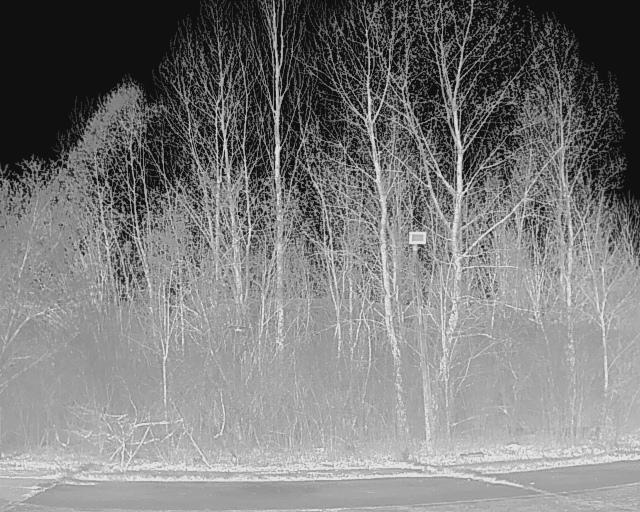drone: (221, 313, 256, 346)
